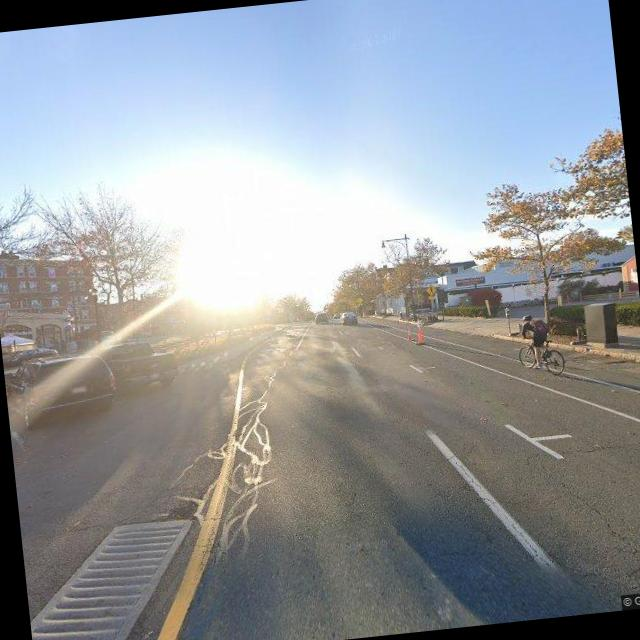pothole: (559, 474, 640, 585)
